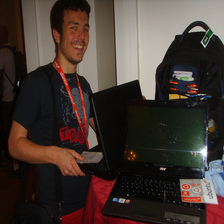laptop: (110, 97, 209, 224), (64, 77, 153, 177)
